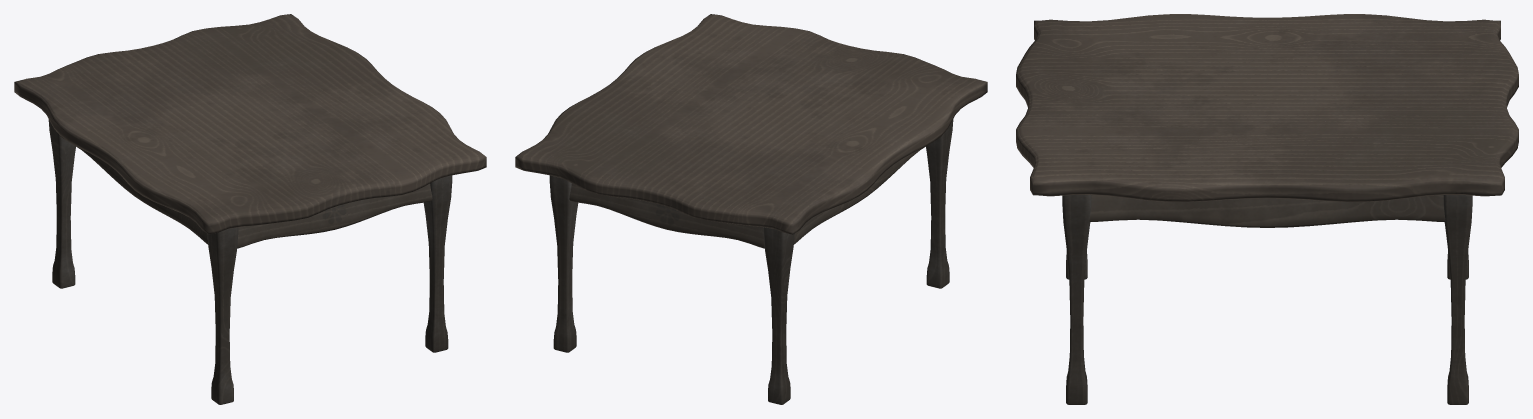
Rendered from VintageTable_Final.fbx.
3 renders of one model, left to right at view 1: azimuth 30°, elevation 25°; view 2: azimuth 150°, elevation 25°; view 3: azimuth 270°, elevation 25°, orthographic. The views are drawn at different scales.
Parts seen in each view (by area): view 1: VintageTable_01; view 2: VintageTable_01; view 3: VintageTable_01.
Part boxes in pixels (box(x1,y1,x2,y2)): VintageTable_01: box(14, 14, 486, 404); VintageTable_01: box(515, 14, 987, 404); VintageTable_01: box(1016, 14, 1518, 404).
Size of the model in its own units: 77.92 by 50 by 94.97.
